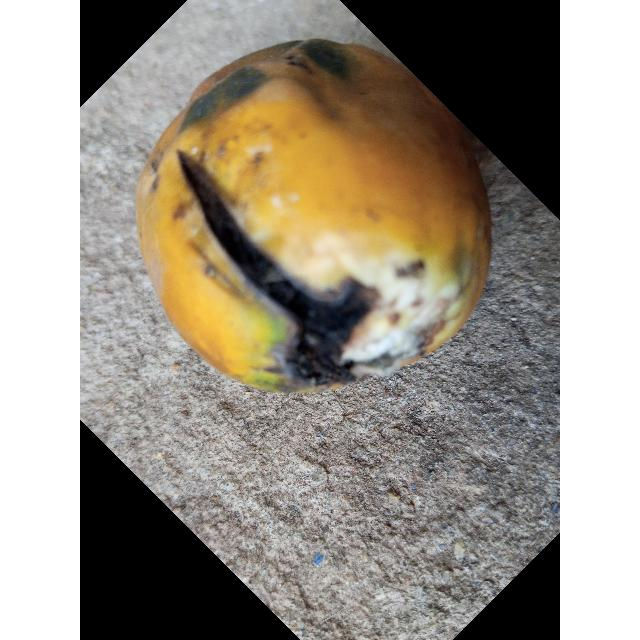damaged: (137, 39, 491, 393)
